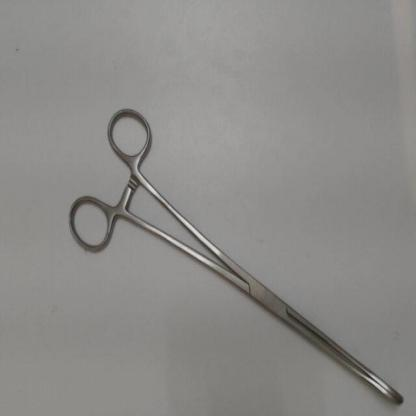Sponge Forceps: (62, 93, 413, 411)
